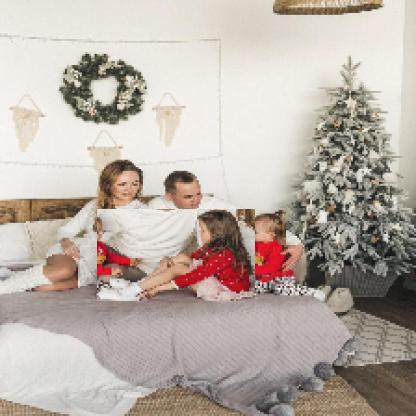child: (98, 210, 257, 303), (211, 207, 326, 300)
